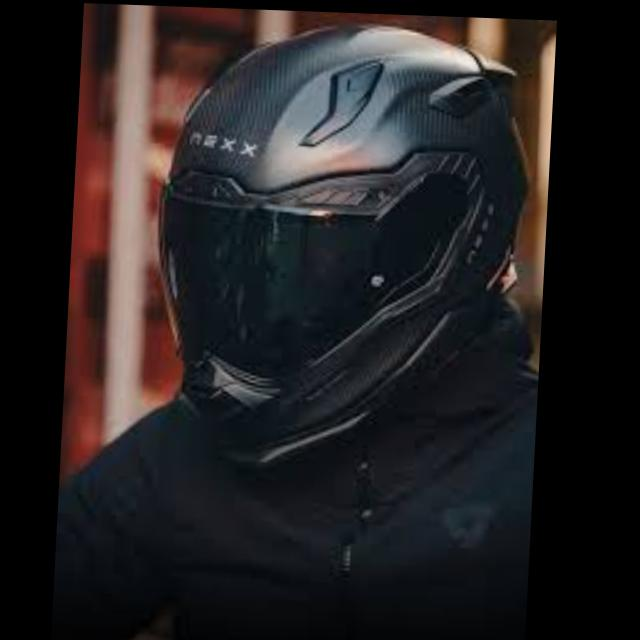motorcycle-helmets: (158, 25, 523, 462)
